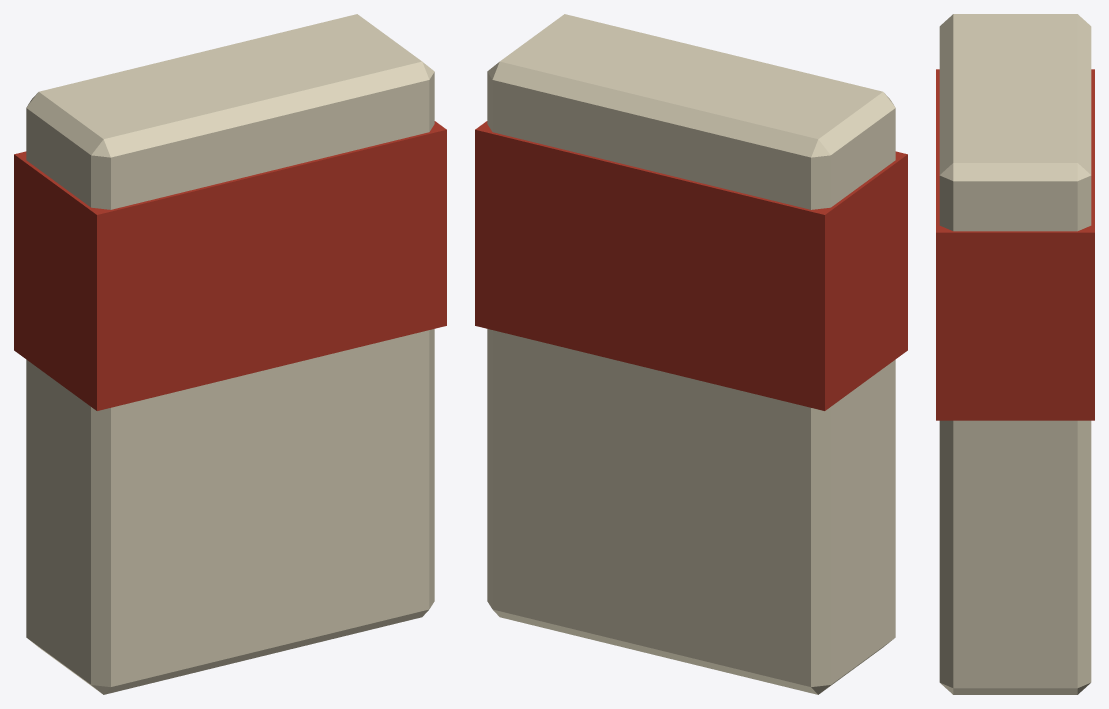
The model's file is cigarettes.glb.
The picture shows the model from 3 angles, left to right: view 1: azimuth 30°, elevation 25°; view 2: azimuth 150°, elevation 25°; view 3: azimuth 270°, elevation 25°; orthographic projection. The views are drawn at different scales.
Parts seen in each view (by area): view 1: Item; view 2: Item; view 3: Item.
Part boxes in pixels (<box>): Item: <box>14,14,446,694</box>; Item: <box>475,14,907,694</box>; Item: <box>936,14,1094,694</box>.
Bounding box in the file's own units: 0.056 × 0.085 × 0.023.
